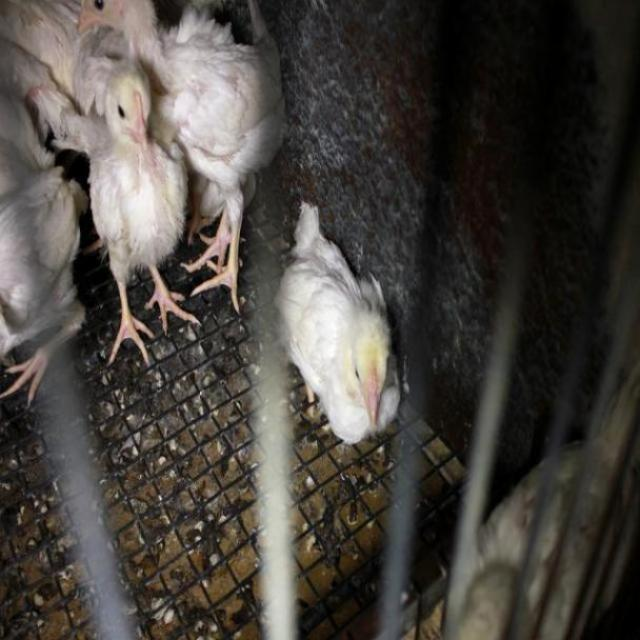Chicken: (274, 213, 401, 461)
